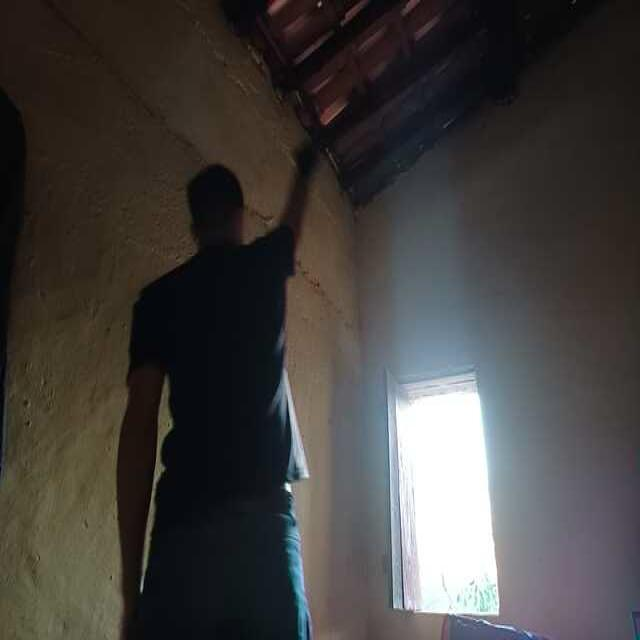pessoa: (109, 149, 322, 640)
